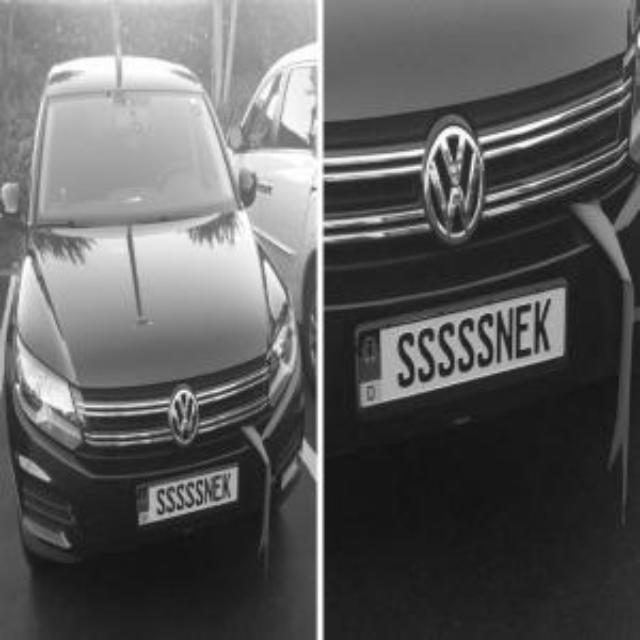License Plate: (357, 285, 566, 408), (138, 466, 238, 526)
